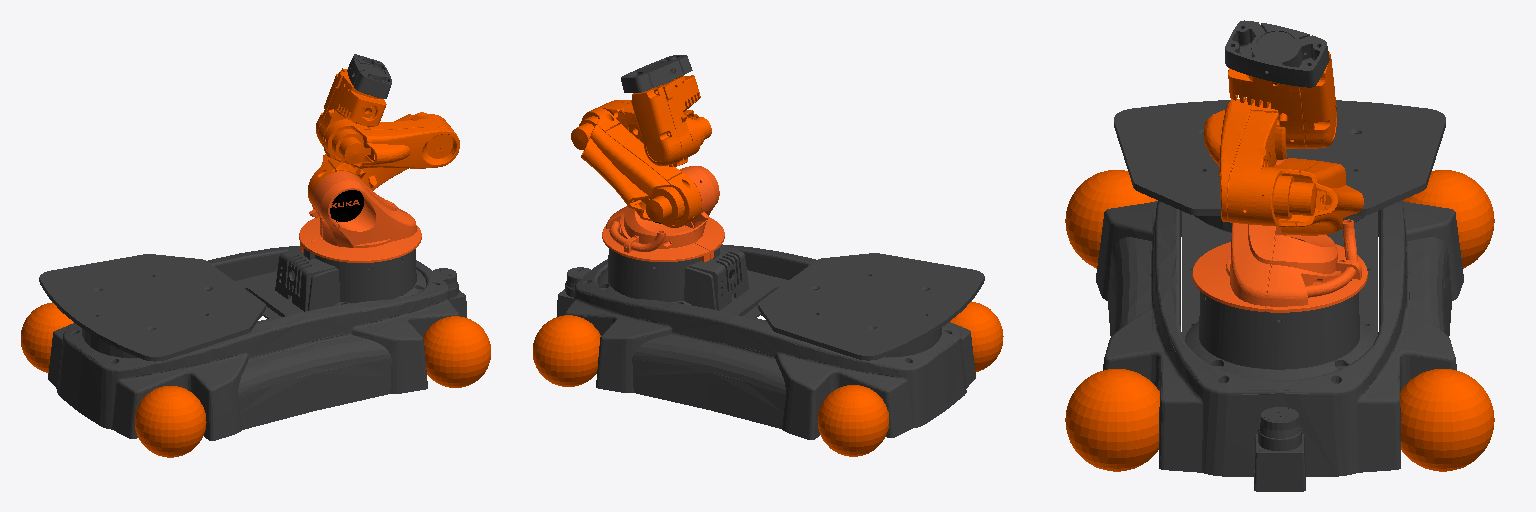
--- Facts derived from the render (not from the file) ---
The picture shows the robot from 3 angles, left to right: view 1: azimuth 30°, elevation 25°; view 2: azimuth 150°, elevation 25°; view 3: azimuth 270°, elevation 25°; orthographic projection.
Robot: youbot — 21 links, 20 joints (5 revolute, 8 continuous, 2 prismatic, 5 fixed); root link base_footprint; default pose: every joint at zero.
Visible links, largest first — view 1: base_link, plate_link, arm_link_1, arm_link_0, arm_link_3, wheel_link_br, wheel_link_fr, arm_link_4, wheel_link_bl, arm_link_2, arm_link_5, base_laser_front_link; view 2: base_link, plate_link, arm_link_2, arm_link_0, arm_link_1, arm_link_4, wheel_link_bl, wheel_link_fl, wheel_link_br, arm_link_5, arm_link_3, base_laser_front_link; view 3: base_link, plate_link, arm_link_1, arm_link_0, wheel_link_fl, wheel_link_fr, arm_link_3, arm_link_2, arm_link_5, arm_link_4, base_laser_front_link, wheel_link_bl (+1 smaller).
Link boxes in pixels (x1,y1,x2,y2): base_link: (48, 246, 458, 440); plate_link: (39, 254, 265, 361); arm_link_1: (299, 171, 421, 262); arm_link_0: (275, 246, 426, 311); arm_link_3: (323, 118, 459, 168); wheel_link_br: (135, 386, 206, 457); wheel_link_fr: (423, 316, 490, 387); arm_link_4: (316, 68, 386, 158); wheel_link_bl: (21, 302, 73, 372); arm_link_2: (308, 112, 450, 207); arm_link_5: (347, 54, 391, 98); base_laser_front_link: (433, 268, 466, 317); base_link: (565, 245, 975, 439); plate_link: (758, 253, 984, 360); arm_link_2: (571, 108, 701, 227); arm_link_0: (597, 244, 748, 310); arm_link_1: (602, 166, 724, 261); arm_link_4: (631, 75, 700, 166); wheel_link_bl: (817, 385, 888, 456); wheel_link_fl: (533, 315, 600, 386); wheel_link_br: (950, 301, 1003, 371); arm_link_5: (621, 55, 692, 92); arm_link_3: (598, 100, 711, 156); base_laser_front_link: (557, 267, 590, 316); base_link: (1096, 201, 1463, 476); plate_link: (1114, 100, 1445, 232); arm_link_1: (1192, 159, 1367, 312); arm_link_0: (1185, 291, 1374, 379); wheel_link_fl: (1400, 369, 1494, 471); wheel_link_fr: (1065, 369, 1159, 471); arm_link_3: (1204, 98, 1286, 224); arm_link_2: (1256, 158, 1363, 235); arm_link_5: (1225, 20, 1329, 87); arm_link_4: (1228, 52, 1336, 148); base_laser_front_link: (1254, 407, 1305, 491); wheel_link_bl: (1402, 170, 1494, 268).
Size in the robot's own frame: 0.6107 by 0.416 by 0.4411 metres.
9 mesh visuals loaded from 11 distinct referenced files (9 Collada DAE); not drawn: 3 (reference not matched to a file when rendering).

The robot description file, URDF, robot "youbot":
<?xml version="1.0" ?>
<!-- =================================================================================== -->
<!-- |    This document was autogenerated by xacro from robots/youbot.urdf.xacro       | -->
<!-- |    EDITING THIS FILE BY HAND IS NOT RECOMMENDED                                 | -->
<!-- =================================================================================== -->
<robot name="youbot" xmlns:controller="http://playerstage.sourceforge.net/gazebo/xmlschema/#controller" xmlns:interface="http://playerstage.sourceforge.net/gazebo/xmlschema/#interface" xmlns:sensor="http://playerstage.sourceforge.net/gazebo/xmlschema/#sensor" xmlns:xacro="http://ros.org/wiki/xacro">
  <!-- The following included files set up definitions of parts of the robot body -->
  <!-- misc common stuff? -->
  <!-- youbot base -->
  <!-- youbot plate -->
  <!-- youbot arm -->
  <!-- youbot gripper -->
  <!-- generic simulator_gazebo plugins for starting mechanism control, ros time, ros battery -->
  <gazebo>
    <controller:gazebo_ros_controller_manager name="gazebo_ros_controller_manager" plugin="libgazebo_ros_controller_manager.so">
      <alwaysOn>true</alwaysOn>
      <updateRate>1000.0</updateRate>
      <interface:audio name="gazebo_ros_controller_manager_dummy_iface"/>
    </controller:gazebo_ros_controller_manager>
    <controller:gazebo_ros_power_monitor name="gazebo_ros_power_monitor_controller" plugin="libgazebo_ros_power_monitor.so">
      <alwaysOn>true</alwaysOn>
      <updateRate>1.0</updateRate>
      <timeout>5</timeout>
      <interface:audio name="power_monitor_dummy_interface"/>
      <powerStateTopic>power_state</powerStateTopic>
      <powerStateRate>10.0</powerStateRate>
      <fullChargeCapacity>87.78</fullChargeCapacity>
      <dischargeRate>-474</dischargeRate>
      <chargeRate>525</chargeRate>
      <dischargeVoltage>15.52</dischargeVoltage>
      <chargeVoltage>16.41</chargeVoltage>
    </controller:gazebo_ros_power_monitor>
  </gazebo>
  <!-- materials for visualization -->
  <material name="Orange">
    <color rgba="1.0 0.4 0.0 1.0"/>
  </material>
  <material name="Grey">
    <color rgba="0.7 0.7 0.7 1.0"/>
  </material>
  <material name="DarkGrey">
    <color rgba="0.3 0.3 0.3 1.0"/>
  </material>
  <material name="White">
    <color rgba="1.0 1.0 1.0 1.0"/>
  </material>
  <material name="Black">
    <color rgba="0.0 0.0 0.0 1.0"/>
  </material>
  <material name="Red">
    <color rgba="1.0 0.0 0.0 1.0"/>
  </material>
  <material name="Green">
    <color rgba="0.0 1.0 0.0 1.0"/>
  </material>
  <!-- Now we can start using the macros included above to define the actual youbot -->
  <!-- The first use of a macro.  This one was defined in base.urdf.xacro above.
       A macro like this will expand to a set of link and joint definitions, and to additional
       Gazebo-related extensions (sensor plugins, etc).  The macro takes an argument, name, 
       that equals "base", and uses it to generate names for its component links and joints 
       (e.g., base_link).  The included origin block is also an argument to the macro.  By convention, 
       the origin block defines where the component is w.r.t its parent (in this case the parent 
       is the world frame). For more, see http://www.ros.org/wiki/xacro -->
  <!-- foot for arm-->
  <link name="base_footprint">
    <inertial>
      <mass value="0.1"/>
      <origin rpy="0 0 0" xyz="0 0 -0.05"/>
      <inertia ixx="1.0" ixy="0.0" ixz="0.0" iyy="1.0" iyz="0.0" izz="1.0"/>
    </inertial>
    <visual>
      <origin rpy="0 0 0" xyz="0 0 0"/>
      <geometry>
        <box size="0.001 0.001 0.001"/>
      </geometry>
      <material name="Red"/>
    </visual>
    <collision>
      <origin rpy="0 0 0" xyz="0 0 -0.05"/>
      <geometry>
        <box size="0.001 0.001 0.001"/>
      </geometry>
    </collision>
  </link>
  <joint name="base_footprint_joint" type="fixed">
    <origin rpy="0 0 0" xyz="0 0 0"/>
    <child link="base_link"/>
    <parent link="base_footprint"/>
  </joint>
  <link name="base_link">
    <inertial>
      <mass value="22.0"/>
      <origin xyz="0 0 0"/>
      <inertia ixx="5.652232699207" ixy="-0.009719934438" ixz="1.293988226423" iyy="5.669473158652" iyz="-0.007379583694" izz="3.683196351726"/>
    </inertial>
    <visual>
      <origin rpy="0 0 0" xyz="0 0 0"/>
      <geometry>
        <mesh filename="package://youbot_description/meshes/youbot_base/base.dae"/>
      </geometry>
      <material name="DarkGrey"/>
    </visual>
    <collision>
      <origin rpy="0 0 0" xyz="0 0 0"/>
      <geometry>
        <!--<box size="${base_size_x} ${base_size_y} ${base_size_z}" />-->
        <mesh filename="package://youbot_description/meshes/youbot_base/base_convex.dae"/>
      </geometry>
    </collision>
  </link>
  <joint name="base_laser_front_hokuyo_urg04_laser_joint" type="fixed">
    <axis xyz="0 1 0"/>
    <origin rpy="0 0 0" xyz="0.3 0 -0.03"/>
    <parent link="base_link"/>
    <child link="base_laser_front_link"/>
  </joint>
  <link name="base_laser_front_link" type="laser">
    <inertial>
      <mass value="0.16"/>
      <origin rpy="0 0 0" xyz="0 0 0"/>
      <inertia ixx="0.1" ixy="0" ixz="0" iyy="0.1" iyz="0" izz="0.1"/>
    </inertial>
    <visual>
      <origin rpy="0 0 0" xyz="0 0 0"/>
      <geometry>
        <mesh filename="package://youbot_description/meshes/sensors/hokuyo.dae"/>
      </geometry>
      <material name="DarkGrey"/>
    </visual>
    <collision>
      <origin rpy="0 0 0" xyz="0 0 0"/>
      <geometry>
        <mesh filename="package://youbot_description/meshes/sensors/hokuyo_convex.dae"/>
      </geometry>
    </collision>
  </link>
  <gazebo reference="base_laser_front_link">
    <sensor:ray name="base_laser_front">
      <rayCount>640</rayCount>
      <rangeCount>640</rangeCount>
      <laserCount>1</laserCount>
      <origin>0.0 0.0 0.0</origin>
      <displayRays>false</displayRays>
      <minAngle>-89.9543738355</minAngle>
      <maxAngle>89.9543738355</maxAngle>
      <minRange>0.05</minRange>
      <maxRange>5.6</maxRange>
      <resRange>0.36</resRange>
      <updateRate>10</updateRate>
      <controller:gazebo_ros_laser name="gazebo_ros_base_laser_front_controller" plugin="libgazebo_ros_laser.so">
        <gaussianNoise>0.000</gaussianNoise>
        <alwaysOn>true</alwaysOn>
        <updateRate>10</updateRate>
        <topicName>scan_front</topicName>
        <frameName>/base_laser_front_link</frameName>
        <interface:laser name="gazebo_ros_base_laser_front_iface"/>
      </controller:gazebo_ros_laser>
    </sensor:ray>
  </gazebo>
  <joint name="caster_joint_fl" type="continuous">
    <origin rpy="0 0 0" xyz="0.228 0.158 -0.034"/>
    <axis xyz="0 0 1"/>
    <limit effort="30" velocity="10"/>
    <dynamics damping="1.0" friction="1.0"/>
    <safety_controller k_velocity="10.0"/>
    <parent link="base_link"/>
    <child link="caster_link_fl"/>
  </joint>
  <link name="caster_link_fl">
    <inertial>
      <mass value="0.1"/>
      <origin xyz="0 0 0"/>
      <inertia ixx="0.012411765597" ixy="-0.000711733678" ixz="0.00050272983" iyy="0.015218160428" iyz="-0.000004273467" izz="0.011763977943"/>
    </inertial>
  </link>
  <joint name="wheel_joint_fl" type="continuous">
    <axis xyz="0 1 0"/>
    <limit effort="30" velocity="10"/>
    <origin rpy="0 0 0" xyz="0.0 0.0 0.0"/>
    <parent link="caster_link_fl"/>
    <dynamics damping="1.0" friction="1.0"/>
    <safety_controller k_velocity="10.0"/>
    <child link="wheel_link_fl"/>
  </joint>
  <link name="wheel_link_fl">
    <inertial>
      <mass value="0.4"/>
      <origin xyz="0 0 0"/>
      <inertia ixx="0.012411765597" ixy="-0.000711733678" ixz="0.00050272983" iyy="0.015218160428" iyz="-0.000004273467" izz="0.011763977943"/>
    </inertial>
    <visual>
      <origin rpy="0 0 0" xyz="0 0 0"/>
      <!--<mesh filename="package://youbot_description/meshes/youbot_base/youbot_wheel.stl" />-->
      <geometry>
        <sphere radius="0.05"/>
      </geometry>
      <material name="Orange"/>
    </visual>
    <collision>
      <origin rpy="1.57079632679 0 0" xyz="0 0 0"/>
      <geometry>
        <cylinder length="0.05" radius="0.05"/>
      </geometry>
    </collision>
  </link>
  <joint name="caster_joint_fr" type="continuous">
    <origin rpy="0 0 0" xyz="0.228 -0.158 -0.034"/>
    <axis xyz="0 0 1"/>
    <limit effort="30" velocity="10"/>
    <dynamics damping="1.0" friction="1.0"/>
    <safety_controller k_velocity="10.0"/>
    <parent link="base_link"/>
    <child link="caster_link_fr"/>
  </joint>
  <link name="caster_link_fr">
    <inertial>
      <mass value="0.1"/>
      <origin xyz="0 0 0"/>
      <inertia ixx="0.012411765597" ixy="-0.000711733678" ixz="0.00050272983" iyy="0.015218160428" iyz="-0.000004273467" izz="0.011763977943"/>
    </inertial>
  </link>
  <joint name="wheel_joint_fr" type="continuous">
    <axis xyz="0 1 0"/>
    <limit effort="30" velocity="10"/>
    <dynamics damping="1.0" friction="1.0"/>
    <safety_controller k_velocity="10.0"/>
    <origin rpy="0 0 0" xyz="0.0 0.0 0.0"/>
    <parent link="caster_link_fr"/>
    <child link="wheel_link_fr"/>
  </joint>
  <link name="wheel_link_fr">
    <inertial>
      <mass value="0.4"/>
      <origin xyz="0 0 0"/>
      <inertia ixx="0.012411765597" ixy="-0.000711733678" ixz="0.00050272983" iyy="0.015218160428" iyz="-0.000004273467" izz="0.011763977943"/>
    </inertial>
    <visual>
      <origin rpy="0 0 0" xyz="0 0 0"/>
      <geometry>
        <!--<mesh filename="package://youbot_description/meshes/youbot_base/youbot_wheel.stl" />-->
        <sphere radius="0.05"/>
      </geometry>
      <material name="Orange"/>
    </visual>
    <collision>
      <origin rpy="1.57079632679 0 0" xyz="0 0 0"/>
      <geometry>
        <cylinder length="0.05" radius="0.05"/>
      </geometry>
    </collision>
  </link>
  <joint name="caster_joint_bl" type="continuous">
    <origin rpy="0 0 0" xyz="-0.228 0.158 -0.034"/>
    <axis xyz="0 0 1"/>
    <limit effort="30" velocity="10"/>
    <dynamics damping="1.0" friction="1.0"/>
    <safety_controller k_velocity="10.0"/>
    <parent link="base_link"/>
    <child link="caster_link_bl"/>
  </joint>
  <link name="caster_link_bl">
    <inertial>
      <mass value="0.1"/>
      <origin xyz="0 0 0"/>
      <inertia ixx="0.012411765597" ixy="-0.000711733678" ixz="0.00050272983" iyy="0.015218160428" iyz="-0.000004273467" izz="0.011763977943"/>
    </inertial>
  </link>
  <joint name="wheel_joint_bl" type="continuous">
    <axis xyz="0 1 0"/>
    <limit effort="10" velocity="10"/>
    <limit effort="30" velocity="10"/>
    <dynamics damping="1.0" friction="1.0"/>
    <safety_controller k_velocity="10.0"/>
    <origin rpy="0 0 0" xyz="0.0 0.0 0.0"/>
    <parent link="caster_link_bl"/>
    <child link="wheel_link_bl"/>
  </joint>
  <link name="wheel_link_bl">
    <inertial>
      <mass value="0.4"/>
      <origin xyz="0 0 0"/>
      <inertia ixx="0.012411765597" ixy="-0.000711733678" ixz="0.00050272983" iyy="0.015218160428" iyz="-0.000004273467" izz="0.011763977943"/>
    </inertial>
    <visual>
      <origin rpy="0 0 0" xyz="0 0 0"/>
      <geometry>
        <!--<mesh filename="package://youbot_description/meshes/youbot_base/youbot_wheel.stl" />-->
        <sphere radius="0.05"/>
      </geometry>
      <material name="Orange"/>
    </visual>
    <collision>
      <origin rpy="1.57079632679 0 0" xyz="0 0 0"/>
      <geometry>
        <cylinder length="0.05" radius="0.05"/>
      </geometry>
    </collision>
  </link>
  <joint name="caster_joint_br" type="continuous">
    <origin rpy="0 0 0" xyz="-0.228 -0.158 -0.034"/>
    <axis xyz="0 0 1"/>
    <limit effort="30" velocity="10"/>
    <dynamics damping="1.0" friction="1.0"/>
    <safety_controller k_velocity="10.0"/>
    <parent link="base_link"/>
    <child link="caster_link_br"/>
  </joint>
  <link name="caster_link_br">
    <inertial>
      <mass value="0.1"/>
      <origin xyz="0 0 0"/>
      <inertia ixx="0.012411765597" ixy="-0.000711733678" ixz="0.00050272983" iyy="0.015218160428" iyz="-0.000004273467" izz="0.011763977943"/>
    </inertial>
  </link>
  <joint name="wheel_joint_br" type="continuous">
    <axis xyz="0 1 0"/>
    <limit effort="30" velocity="10"/>
    <dynamics damping="1.0" friction="1.0"/>
    <safety_controller k_velocity="10.0"/>
    <origin rpy="0 0 0" xyz="0.0 0.0 0.0"/>
    <parent link="caster_link_br"/>
    <child link="wheel_link_br"/>
  </joint>
  <link name="wheel_link_br">
    <inertial>
      <mass value="0.4"/>
      <origin xyz="0 0 0"/>
      <inertia ixx="0.012411765597" ixy="-0.000711733678" ixz="0.00050272983" iyy="0.015218160428" iyz="-0.000004273467" izz="0.011763977943"/>
    </inertial>
    <visual>
      <origin rpy="0 0 0" xyz="0 0 0"/>
      <geometry>
        <!--<mesh filename="package://youbot_description/meshes/youbot_base/youbot_wheel.stl" />-->
        <sphere radius="0.05"/>
      </geometry>
      <material name="Orange"/>
    </visual>
    <collision>
      <origin rpy="1.57079632679 0 0" xyz="0 0 0"/>
      <geometry>
        <cylinder length="0.05" radius="0.05"/>
      </geometry>
    </collision>
  </link>
  <gazebo reference="youbot_base">
    <material value="youbot/DarkGrey"/>
  </gazebo>
  <gazebo reference="wheel_link_fl">
    <material value="youbot/Orange"/>
  </gazebo>
  <gazebo reference="caster_link_fl">
    <material value="youbot/Orange"/>
  </gazebo>
  <gazebo reference="wheel_link_fr">
    <material value="youbot/Orange"/>
  </gazebo>
  <gazebo reference="caster_link_fr">
    <material value="youbot/Orange"/>
  </gazebo>
  <gazebo reference="wheel_link_bl">
    <material value="youbot/Orange"/>
  </gazebo>
  <gazebo reference="caster_link_bl">
    <material value="youbot/Orange"/>
  </gazebo>
  <gazebo reference="wheel_link_br">
    <material value="youbot/Orange"/>
  </gazebo>
  <gazebo reference="caster_link_br">
    <material value="youbot/Orange"/>
  </gazebo>
  <gazebo>
    <controller:gazebo_ros_p3d name="p3d_base_controller" plugin="libgazebo_ros_p3d.so">
      <alwaysOn>true</alwaysOn>
      <updateRate>100.0</updateRate>
      <bodyName>base_link</bodyName>
      <topicName>base_pose_ground_truth</topicName>
      <gaussianNoise>0.01</gaussianNoise>
      <frameName>map</frameName>
      <xyzOffsets>25.7 25.7 0</xyzOffsets>
      <!-- initialize odometry for fake localization-->
      <rpyOffsets>0 0 0</rpyOffsets>
      <interface:position name="p3d_base_position"/>
    </controller:gazebo_ros_p3d>
    <canonicalBody>base_footprint</canonicalBody>
  </gazebo>
  <transmission name="wheel_trans_fl" type="pr2_mechanism_model/SimpleTransmission">
    <actuator name="wheel_motor_fl"/>
    <joint name="wheel_joint_fl"/>
    <mechanicalReduction>79.2380952381</mechanicalReduction>
  </transmission>
  <transmission name="caster_trans_fl" type="pr2_mechanism_model/SimpleTransmission">
    <actuator name="caster_motor_fl"/>
    <joint name="caster_joint_fl"/>
    <mechanicalReduction>79.2380952381</mechanicalReduction>
  </transmission>
  <transmission name="wheel_trans_fr" type="pr2_mechanism_model/SimpleTransmission">
    <actuator name="wheel_motor_fr"/>
    <joint name="wheel_joint_fr"/>
    <mechanicalReduction>79.2380952381</mechanicalReduction>
  </transmission>
  <transmission name="caster_trans_fr" type="pr2_mechanism_model/SimpleTransmission">
    <actuator name="caster_motor_fr"/>
    <joint name="caster_joint_fr"/>
    <mechanicalReduction>79.2380952381</mechanicalReduction>
  </transmission>
  <transmission name="wheel_trans_bl" type="pr2_mechanism_model/SimpleTransmission">
    <actuator name="wheel_motor_bl"/>
    <joint name="wheel_joint_bl"/>
    <mechanicalReduction>79.2380952381</mechanicalReduction>
  </transmission>
  <transmission name="caster_trans_bl" type="pr2_mechanism_model/SimpleTransmission">
    <actuator name="caster_motor_bl"/>
    <joint name="caster_joint_bl"/>
    <mechanicalReduction>79.2380952381</mechanicalReduction>
  </transmission>
  <transmission name="wheel_trans_br" type="pr2_mechanism_model/SimpleTransmission">
    <actuator name="wheel_motor_br"/>
    <joint name="wheel_joint_br"/>
    <mechanicalReduction>79.2380952381</mechanicalReduction>
  </transmission>
  <transmission name="caster_trans_br" type="pr2_mechanism_model/SimpleTransmission">
    <actuator name="caster_motor_br"/>
    <joint name="caster_joint_br"/>
    <mechanicalReduction>79.2380952381</mechanicalReduction>
  </transmission>
  <joint name="plate_joint" type="fixed">
    <origin rpy="0 0 0" xyz="-0.159 0 0.046"/>
    <parent link="base_link"/>
    <child link="plate_link"/>
  </joint>
  <link name="plate_link">
    <inertial>
      <origin rpy="0 0 0" xyz="0 0 0"/>
      <mass value="1"/>
      <inertia ixx="0.01" ixy="0" ixz="0" iyy="0.01" iyz="0" izz="0.01"/>
    </inertial>
    <visual>
      <origin rpy="0 0 0" xyz="0 0 0"/>
      <geometry>
        <mesh filename="package://youbot_description/meshes/youbot_plate/plate.dae"/>
      </geometry>
      <material name="DarkGrey"/>
    </visual>
    <collision>
      <origin rpy="0 0 0" xyz="0 0 0"/>
      <geometry>
        <mesh filename="package://youbot_description/meshes/youbot_plate/plate_convex.dae"/>
      </geometry>
    </collision>
  </link>
  <joint name="arm_joint_0" type="fixed">
    <origin rpy="0 0 0" xyz="0.143 0 0.046"/>
    <parent link="base_link"/>
    <child link="arm_link_0"/>
  </joint>
  <link name="arm_link_0">
    <inertial>
      <!--<origin xyz="0.023 0 0.006" rpy="0 0 0"/>-->
      <origin rpy="0 0 0" xyz="0 0 0"/>
      <mass value="0.845"/>
      <inertia ixx="0.01" ixy="0" ixz="0" iyy="0.01" iyz="0" izz="0.01"/>
    </inertial>
    <visual>
      <origin rpy="0 0 0" xyz="0 0 0"/>
      <geometry>
        <mesh filename="package://youbot_description/meshes/youbot_arm/arm0.dae"/>
      </geometry>
      <material name="DarkGrey"/>
    </visual>
    <collision>
      <!--<origin xyz="0.023 0 0.006" rpy="0 0 0"/>-->
      <origin rpy="0 0 0" xyz="0 0 0"/>
      <geometry>
        <mesh filename="package://youbot_description/meshes/youbot_arm/arm0_convex.dae"/>
        <!--<cylinder length="0.078" radius="0.093"/>-->
      </geometry>
    </collision>
  </link>
  <joint name="arm_joint_1" type="revolute">
    <origin rpy="0 0 2.96705972839" xyz="0.024 0 0.096"/>
    <parent link="arm_link_0"/>
    <child link="arm_link_1"/>
    <axis xyz="0 0 -1"/>
    <!--<calibration rising="${arm_1_ref}" falling="${arm_1_ref}"/>-->
    <dynamics damping="1" friction="1"/>
    <!-- damping - N*s/m, N*s*m/rad -->
    <!-- friction - N, N*m -->
    <limit effort="9.5" lower="0" upper="5.89921287174" velocity="1.57079632679"/>
    <!--effort - N, N*m-->
    <!--velocity - m/s, rad/s-->
    <safety_controller k_position="20" k_velocity="1.51197195937" soft_lower_limit="0.001" soft_upper_limit="5.89821287174"/>
    <!--k_position N/m, N/rad-->
    <!--k_velocity N*s/m, N*s*m/rad-->
    <!--for details: http://www.ros.org/wiki/pr2_controller_manager/safety_limits-->
  </joint>
  <link name="arm_link_1">
    <inertial>
      <mass value="2.412"/>
      <origin rpy="0 0 0" xyz="0.01489 0.00213 0.00213"/>
      <inertia ixx="0.003863" ixy="-0.000979" ixz="0.000000" iyy="0.006196" iyz="0.000000" izz="0.006369"/>
    </inertial>
    <visual>
      <origin rpy="0 0 0" xyz="0 0 0"/>
      <geometry>
        <mesh filename="package://youbot_description/meshes/youbot_arm/arm1.dae"/>
      </geometry>
      <!--<material name="Orange" />-->
    </visual>
    <collision>
      <!--<origin xyz="0 0 -0.003" rpy="0 0 0" />-->
      <origin rpy="0 0 0" xyz="0 0 0"/>
      <geometry>
        <mesh filename="package://youbot_description/meshes/youbot_arm/arm1_convex.dae"/>
        <!--<cylinder length="0.102" radius="0.080"/>-->
      </geometry>
    </collision>
  </link>
  <joint name="arm_joint_2" type="revolute">
    <origin rpy="0 -1.1344640138 0" xyz="0.033 0 0.019"/>
    <parent link="arm_link_1"/>
    <child link="arm_link_2"/>
    <axis xyz="0 1 0"/>
    <!--<calibration rising="${arm_2_ref}" falling="${arm_2_ref}"/>-->
    <dynamics damping="1" friction="1"/>
    <limit effort="9.5" lower="0" upper="2.70526034059" velocity="1.57079632679"/>
    <safety_controller k_position="20" k_velocity="6.04788783749" soft_lower_limit="0.001" soft_upper_limit="2.70426034059"/>
  </joint>
  <link name="arm_link_2">
    <inertial>
      <mass value="1.155"/>
      <origin rpy="0 0 0" xyz="0.10453 0.0017 -0.00297"/>
      <inertia ixx="0.000823" ixy="0.000000" ixz="-0.000000" iyy="0.004447" iyz="0.000000" izz="0.004439"/>
    </inertial>
    <visual>
      <origin rpy="0 0 0" xyz="0 -0.032 0.078"/>
      <geometry>
        <mesh filename="package://youbot_description/meshes/youbot_arm/arm2.dae"/>
      </geometry>
      <material name="Orange"/>
    </visual>
    <collision>
      <!--<origin xyz="0.001 -0.041 0.074" rpy="0 0 0" />-->
      <origin rpy="0 0 0" xyz="0 -0.032 0.078"/>
      <geometry>
        <mesh filename="package://youbot_description/meshes/youbot_arm/arm2_convex.dae"/>
        <!--<box size="0.074 0.082 0.222"/>-->
      </geometry>
    </collision>
  </link>
  <joint name="arm_joint_3" type="revolute">
    <origin rpy="0 2.54818070791 0" xyz="0.000 0.000 0.155"/>
    <parent link="arm_link_2"/>
    <child link="arm_link_3"/>
    <axis xyz="0 1 0"/>
    <dynamics damping="1" friction="1"/>
    <limit effort="6.0" lower="-5.18362787842" upper="0" velocity="1.57079632679"/>
    <safety_controller k_position="20" k_velocity="50" soft_lower_limit="-5.18262787842" soft_upper_limit="-0.001"/>
  </joint>
  <link name="arm_link_3">
    <inertial>
      <mass value="0.934"/>
      <origin rpy="0 0 0" xyz="0.0001 0.0967 0.02107"/>
      <inertia ixx="0.002459" ixy="0.000000" ixz="0.000000" iyy="0.002571" iyz="-0.000000" izz="0.000535"/>
    </inertial>
    <visual>
      <origin rpy="0 0 0" xyz="0.000 0.028 0.079"/>
      <geometry>
        <mesh filename="package://youbot_description/meshes/youbot_arm/arm3.dae"/>
      </geometry>
      <material name="Orange"/>
    </visual>
    <collision>
      <!--<origin xyz="0.000 0.025 0.067" rpy="0 0 0" />-->
      <origin rpy="0 0 0" xyz="0.000 0.028 0.079"/>
      <geometry>
        <mesh filename="package://youbot_description/meshes/youbot_arm/arm3_convex.dae"/>
        <!--<box size="0.064 0.054 0.192"/>-->
      </geometry>
    </collision>
  </link>
  <joint name="arm_joint_4" type="revolute">
    <origin rpy="0 -1.78896248329 0" xyz="0.000 0.000 0.135"/>
    <parent link="arm_link_3"/>
    <child link="arm_link_4"/>
    <axis xyz="0 1 0"/>
    <!--<calibration rising="${arm_4_ref}" falling="${arm_4_ref}"/>-->
    <dynamics damping="1" friction="1"/>
    <limit effort="2.0" lower="0" upper="3.57792496659" velocity="1.57079632679"/>
    <safety_controller k_position="20" k_velocity="100" soft_lower_limit="0" soft_upper_limit="3.57692496659"/>
  </joint>
  <link name="arm_link_4">
    <inertial>
      <mass value="0.877"/>
      <origin rpy="0 0 0" xyz="0.00011 0.05103 -0.02319"/>
      <inertia ixx="0.000869" ixy="0.000000" ixz="-0.000000" iyy="0.001173" iyz="-0.000231" izz="0.001091"/>
    </inertial>
    <visual>
      <origin rpy="0 0 0" xyz="0 -0.010 0.029"/>
      <geometry>
        <mesh filename="package://youbot_description/meshes/youbot_arm/arm4.dae"/>
      </geometry>
      <material name="Orange"/>
    </visual>
    <collision>
      <!--<origin xyz="0 0 0.026" rpy="0 0 0" />-->
      <origin rpy="0 0 0" xyz="0 -0.010 0.029"/>
      <geometry>
        <mesh filename="package://youbot_description/meshes/youbot_arm/arm4_convex.dae"/>
        <!--<box size="0.058 0.100 0.118"/>-->
      </geometry>
    </collision>
  </link>
  <joint name="arm_joint_5" type="revolute">
    <origin rpy="0 0 2.92342649709" xyz="-0.002 0 0.130"/>
    <parent link="arm_link_4"/>
    <child link="arm_link_5"/>
    <axis xyz="0 0 -1"/>
    <!--<calibration rising="${arm_5_ref}" falling="${arm_5_ref}"/>-->
    <dynamics damping="1" friction="1"/>
    <limit effort="1" lower="0" upper="5.84685299418" velocity="1.57079632679"/>
    <safety_controller k_position="20" k_velocity="100" soft_lower_limit="0" soft_upper_limit="5.84585299418"/>
  </joint>
  <link name="arm_link_5">
    <inertial>
      <mass value="0.251"/>
      <origin rpy="0 0 0" xyz="0.0 0.00115 -0.01683"/>
      <inertia ixx="0.000280" ixy="0.000000" ixz="0.000000" iyy="0.000339" iyz="0.000000" izz="0.000119"/>
    </inertial>
    <visual>
      <origin rpy="0 0 0" xyz="0.003 0 -0.034"/>
      <geometry>
        <mesh filename="package://youbot_description/meshes/youbot_arm/arm5.dae"/>
      </geometry>
      <material name="DarkGrey"/>
    </visual>
    <collision>
      <origin rpy="0 0 0" xyz="0.003 0 -0.034"/>
      <geometry>
        <mesh filename="package://youbot_description/meshes/youbot_arm/arm5_convex.dae"/>
        <!--<box size="0.054 0.096 0.030"/>-->
      </geometry>
    </collision>
  </link>
  <gazebo reference="arm_link_0">
    <material value="youbot/DarkGrey"/>
    <turnGravityOff>false</turnGravityOff>
  </gazebo>
  <gazebo reference="arm_link_1">
    <!--<material value="youbot/Orange" />-->
    <turnGravityOff>false</turnGravityOff>
  </gazebo>
  <gazebo reference="arm_link_2">
    <!--<material value="youbot/Orange" />-->
    <turnGravityOff>false</turnGravityOff>
  </gazebo>
  <gazebo reference="arm_link_3">
    <!--<material value="youbot/Orange" />-->
    <turnGravityOff>false</turnGravityOff>
  </gazebo>
  <gazebo reference="arm_link_4">
    <!--<material value="youbot/Orange" />-->
    <turnGravityOff>false</turnGravityOff>
  </gazebo>
  <gazebo reference="arm_link_5">
    <!--<material value="youbot/DarkGrey" />-->
    <turnGravityOff>false</turnGravityOff>
  </gazebo>
  <transmission name="arm_trans_1" type="pr2_mechanism_model/SimpleTransmission">
    <actuator name="arm_motor_1"/>
    <joint name="arm_joint_1"/>
    <mechanicalReduction>1</mechanicalReduction>
  </transmission>
  <transmission name="arm_trans_2" type="pr2_mechanism_model/SimpleTransmission">
    <actuator name="arm_motor_2"/>
    <joint name="arm_joint_2"/>
    <mechanicalReduction>1</mechanicalReduction>
  </transmission>
  <transmission name="arm_trans_3" type="pr2_mechanism_model/SimpleTransmission">
    <actuator name="arm_motor_3"/>
    <joint name="arm_joint_3"/>
    <mechanicalReduction>1</mechanicalReduction>
  </transmission>
  <transmission name="arm_trans_4" type="pr2_mechanism_model/SimpleTransmission">
    <actuator name="arm_motor_4"/>
    <joint name="arm_joint_4"/>
    <mechanicalReduction>1</mechanicalReduction>
  </transmission>
  <transmission name="arm_trans_5" type="pr2_mechanism_model/SimpleTransmission">
    <actuator name="arm_motor_5"/>
    <joint name="arm_joint_5"/>
    <mechanicalReduction>1</mechanicalReduction>
  </transmission>
  <joint name="gripper_palm_joint" type="fixed">
    <origin rpy="0 0 0" xyz="0 0 0"/>
    <parent link="arm_link_5"/>
    <child link="gripper_palm_link"/>
  </joint>
  <link name="gripper_palm_link">
    <inertial>
      <origin rpy="0 0 0" xyz="0 0 0"/>
      <mass value="0.1"/>
      <inertia ixx="0.01" ixy="0" ixz="0" iyy="0.01" iyz="0" izz="0.01"/>
    </inertial>
    <visual>
      <origin rpy="0 0 0" xyz="0 0 0"/>
      <geometry>
        <mesh filename="package://youbot_description/meshes/youbot_gripper/palm.dae"/>
      </geometry>
      <material name="Black"/>
    </visual>
    <collision>
      <origin rpy="0 0 0" xyz="0 0 0"/>
      <geometry>
        <!--<box size="0.050 0.094 0.054"/>-->
        <mesh filename="package://youbot_description/meshes/youbot_gripper/palm_convex.dae"/>
      </geometry>
    </collision>
  </link>
  <joint name="gripper_finger_joint_l" type="prismatic">
    <origin rpy="0 0 3.14159265359" xyz="0.004 0.008 0.046"/>
    <parent link="gripper_palm_link"/>
    <child link="gripper_finger_link_l"/>
    <axis xyz="0 -1 0"/>
    <dynamics damping="1.0" friction="1.0"/>
    <limit effort="1" lower="0" upper="0.0115" velocity="0.1"/>
    <safety_controller k_position="20" k_velocity="25" soft_lower_limit="0.001" soft_upper_limit="0.011"/>
  </joint>
  <link name="gripper_finger_link_l">
    <inertial>
      <origin rpy="0 0 0" xyz="0 -0.001 0"/>
      <mass value="0.01"/>
      <inertia ixx="0.01" ixy="0" ixz="0" iyy="0.01" iyz="0" izz="0.01"/>
    </inertial>
    <visual>
      <origin rpy="0 0 0" xyz="0 0 0"/>
      <geometry>
        <mesh filename="package://youbot_description/meshes/youbot_gripper/finger.dae"/>
      </geometry>
      <material name="Black"/>
    </visual>
    <collision>
      <origin rpy="0 0 0" xyz="0 0 0"/>
      <geometry>
        <!--<box size="0.014 0.020 0.046"/>-->
        <mesh filename="package://youbot_description/meshes/youbot_gripper/finger_convex.dae"/>
      </geometry>
    </collision>
  </link>
  <joint name="gripper_finger_joint_r" type="prismatic">
    <origin rpy="0 0 0" xyz="0.004 -0.008 0.046"/>
    <parent link="gripper_palm_link"/>
    <child link="gripper_finger_link_r"/>
    <axis xyz="0 -1 0"/>
    <dynamics damping="1.0" friction="1.0"/>
    <limit effort="1" lower="0" upper="0.0115" velocity="0.1"/>
    <safety_controller k_position="20" k_velocity="25" soft_lower_limit="0.001" soft_upper_limit="0.011"/>
  </joint>
  <link name="gripper_finger_link_r">
    <inertial>
      <origin rpy="0 0 0" xyz="0.000 -0.001 0"/>
      <mass value="0.01"/>
      <inertia ixx="0.01" ixy="0" ixz="0" iyy="0.01" iyz="0" izz="0.01"/>
    </inertial>
    <visual>
      <origin rpy="0 0 0" xyz="0 0 0"/>
      <geometry>
        <mesh filename="package://youbot_description/meshes/youbot_gripper/finger.dae"/>
      </geometry>
      <material name="Black"/>
    </visual>
    <collision>
      <origin rpy="0 0 0" xyz="0.000 0 0"/>
      <geometry>
        <!--<box size="0.014 0.020 0.046"/>-->
        <mesh filename="package://youbot_description/meshes/youbot_gripper/finger_convex.dae"/>
      </geometry>
    </collision>
  </link>
  <gazebo reference="gripper_palm_link">
    <material>Gazebo/Black</material>
    <turnGravityOff>false</turnGravityOff>
    <selfCollide>true</selfCollide>
  </gazebo>
  <gazebo reference="gripper_finger_l_link">
    <material>Gazebo/Black</material>
    <turnGravityOff>false</turnGravityOff>
    <selfCollide>true</selfCollide>
  </gazebo>
  <gazebo reference="gripper_finger_r_link">
    <material>Gazebo/Black</material>
    <turnGravityOff>false</turnGravityOff>
    <selfCollide>true</selfCollide>
  </gazebo>
  <transmission name="gripper_finger_l_trans" type="pr2_mechanism_model/SimpleTransmission">
    <actuator name="gripper_finger_l_motor"/>
    <joint name="gripper_finger_joint_l"/>
    <mechanicalReduction>1</mechanicalReduction>
  </transmission>
  <transmission name="gripper_finger_r_trans" type="pr2_mechanism_model/SimpleTransmission">
    <actuator name="gripper_finger_r_motor"/>
    <joint name="gripper_finger_joint_r"/>
    <mechanicalReduction>1</mechanicalReduction>
  </transmission>
</robot>
